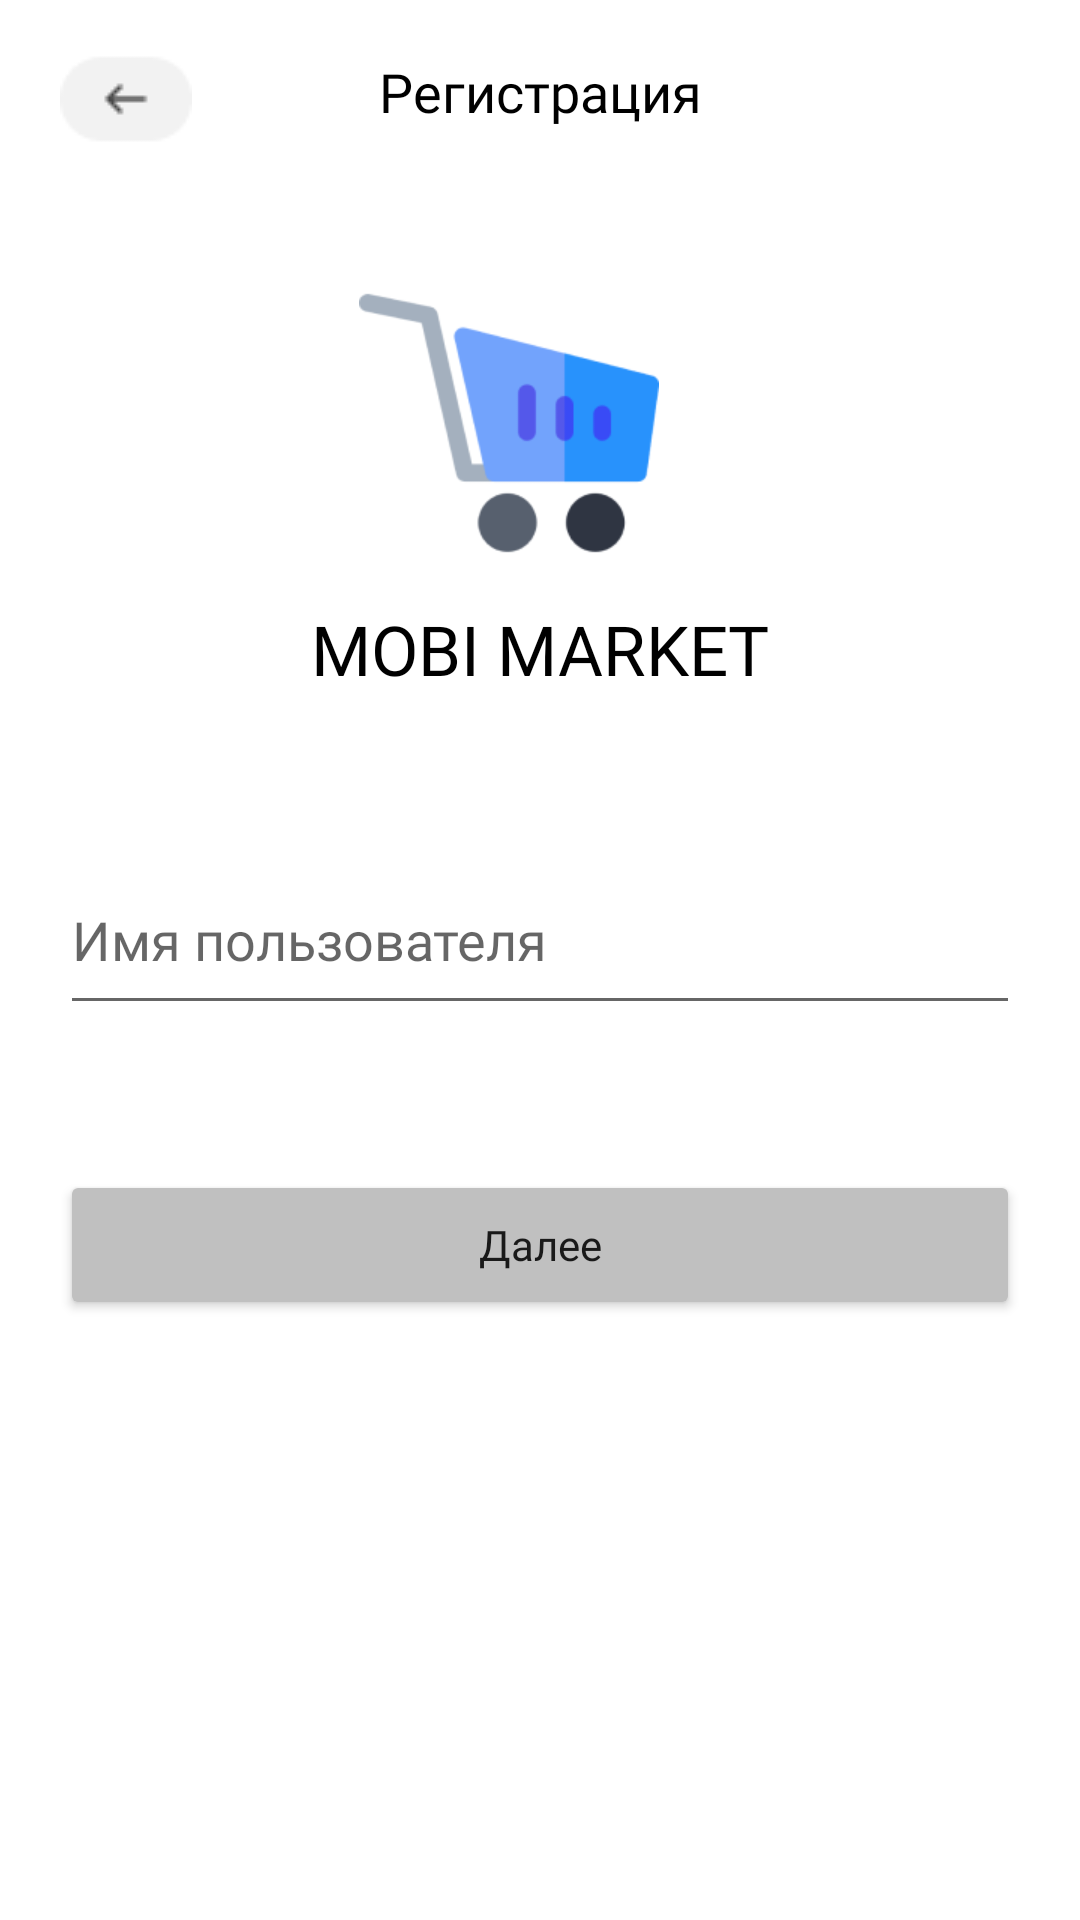

Point at icon controls on the screen. Image size 1080 × 1920, points as point (x, y).
back: point (126, 99)
